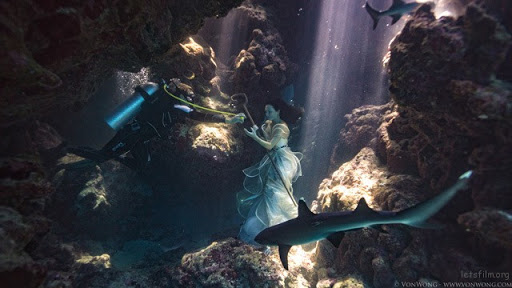shark: (251, 164, 483, 275)
